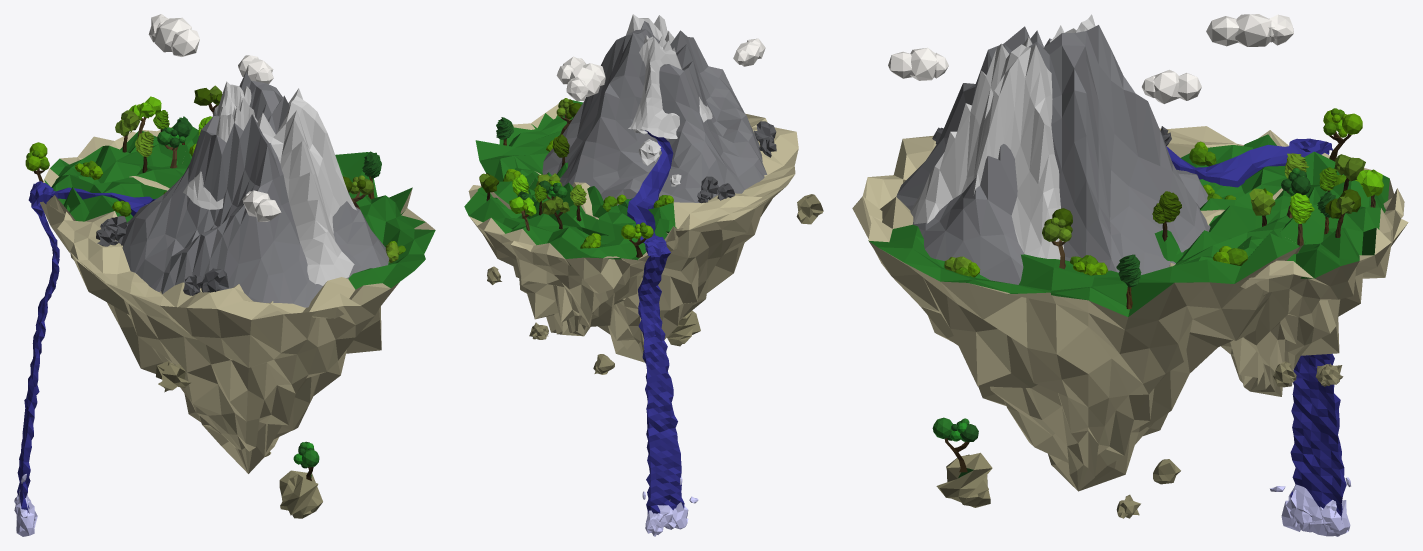
The model's file is WaterfallIsland.fbx.
3 renders of one model, left to right at view 1: azimuth 30°, elevation 25°; view 2: azimuth 150°, elevation 25°; view 3: azimuth 270°, elevation 25°, orthographic. The views are drawn at different scales.
Visible parts, largest first — view 1: Big Island, Moutain1, Mountain2, Small Island, Waterfall, Moutain3, Ilot.2, Nuage3, Nuage2, BedRiver, Roc2, Nuage1 (+1 smaller); view 2: Moutain1, Big Island, Small Island, Waterfall, Moutain3, BedRiver, Nuage3, Ilot.2, Nuage2, Mountain2, Roc2, SnowRoc2; view 3: Big Island, Moutain1, Small Island, Mountain2, Waterfall, BedRiver, Nuage3, Ilot.2, Nuage2, Nuage1, Ecume6, Ecume4.
Boxes of the visible parts, x1,y1,x2,y2 form: Big Island: [57, 148, 435, 473]; Moutain1: [118, 72, 389, 307]; Mountain2: [254, 88, 356, 285]; Small Island: [40, 125, 198, 252]; Waterfall: [17, 181, 59, 512]; Moutain3: [183, 81, 254, 209]; Ilot.2: [279, 470, 322, 518]; Nuage3: [148, 14, 199, 56]; Nuage2: [242, 190, 281, 221]; BedRiver: [30, 183, 156, 216]; Roc2: [156, 361, 190, 392]; Nuage1: [238, 55, 273, 84]; Moutain1: [542, 21, 767, 205]; Big Island: [475, 100, 798, 362]; Small Island: [464, 162, 683, 336]; Waterfall: [638, 237, 684, 514]; Moutain3: [628, 35, 712, 138]; BedRiver: [627, 130, 673, 255]; Nuage3: [566, 63, 605, 101]; Ilot.2: [667, 310, 700, 346]; Nuage2: [733, 38, 765, 66]; Mountain2: [626, 14, 674, 44]; Roc2: [796, 194, 823, 224]; SnowRoc2: [638, 139, 660, 165]; Big Island: [852, 126, 1325, 491]; Moutain1: [896, 25, 1210, 284]; Small Island: [1154, 130, 1408, 396]; Mountain2: [910, 37, 1063, 259]; Waterfall: [1289, 138, 1346, 519]; BedRiver: [1166, 143, 1332, 187]; Nuage3: [1206, 14, 1293, 46]; Ilot.2: [936, 452, 992, 507]; Nuage2: [888, 48, 948, 80]; Nuage1: [1142, 69, 1201, 103]; Ecume6: [1288, 484, 1322, 525]; Ecume4: [1320, 500, 1350, 536].
Bounding box in the file's own units: 8821 × 12989 × 11028.
